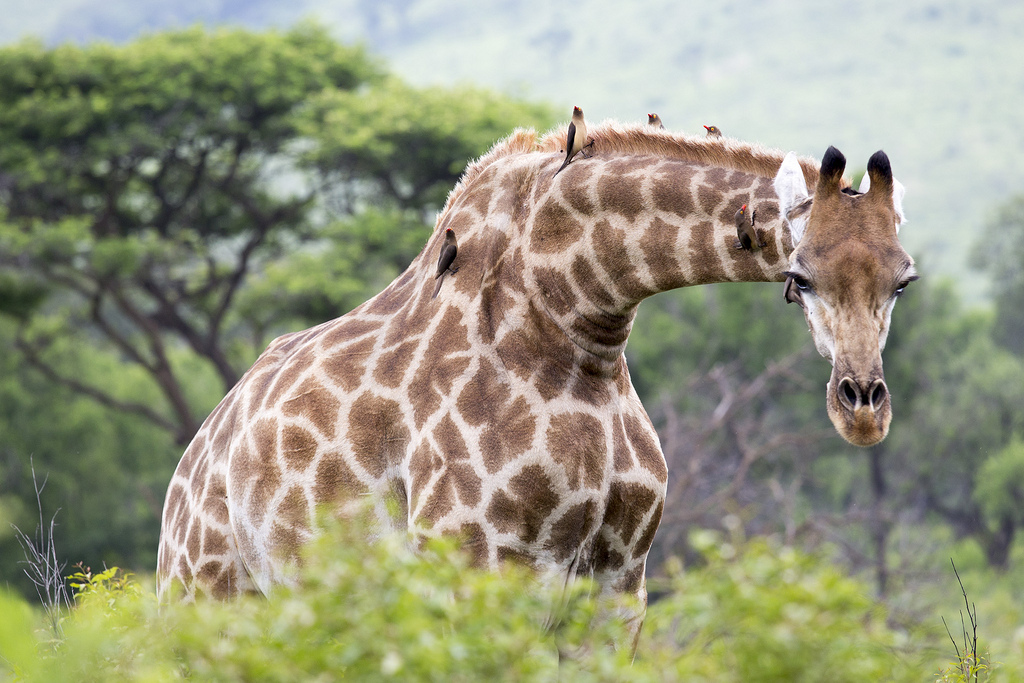giraffe: (159, 111, 936, 623)
